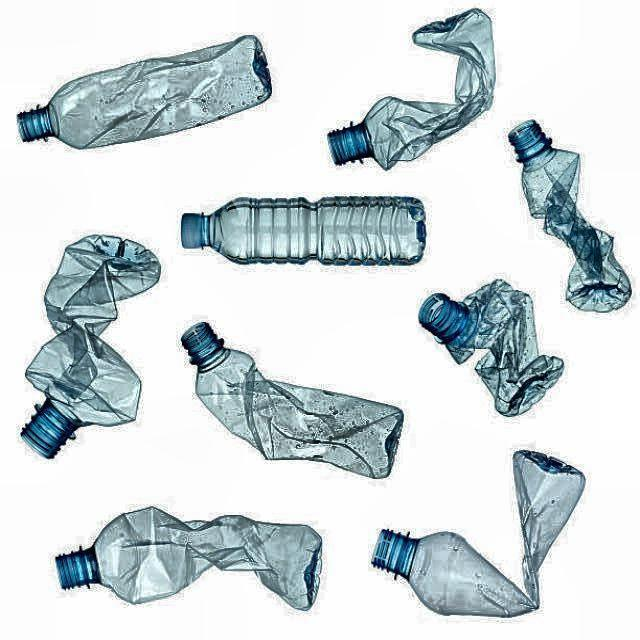plastic: (374, 450, 585, 616), (182, 322, 404, 478), (21, 235, 160, 458), (18, 35, 271, 148), (56, 508, 321, 609), (329, 9, 495, 169), (509, 120, 631, 312), (420, 280, 564, 416), (181, 196, 426, 265)
